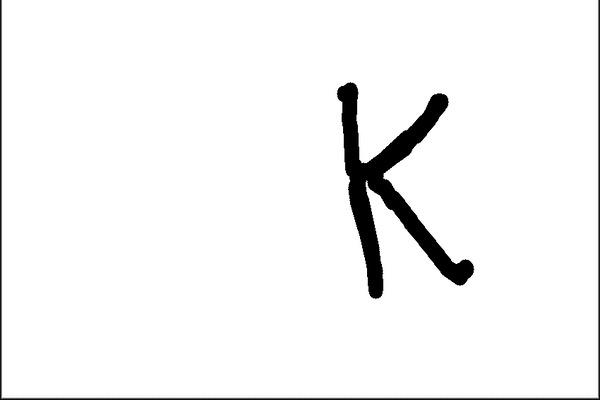K: (326, 72, 484, 305)
